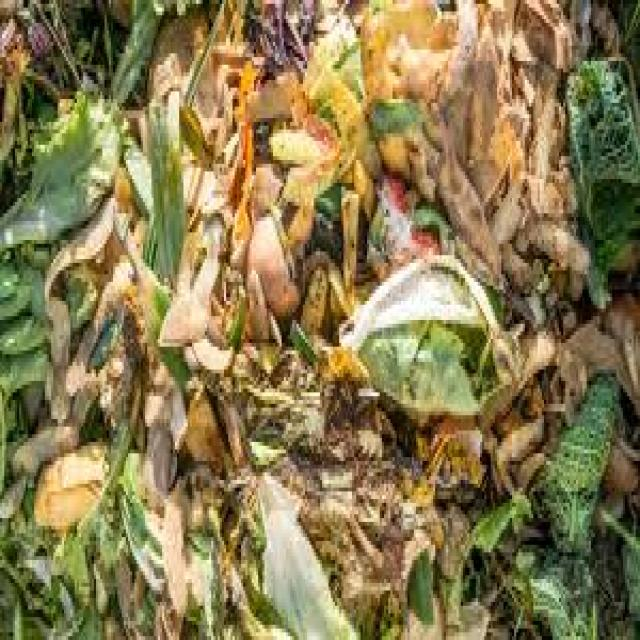food_waste: (20, 47, 620, 592)
